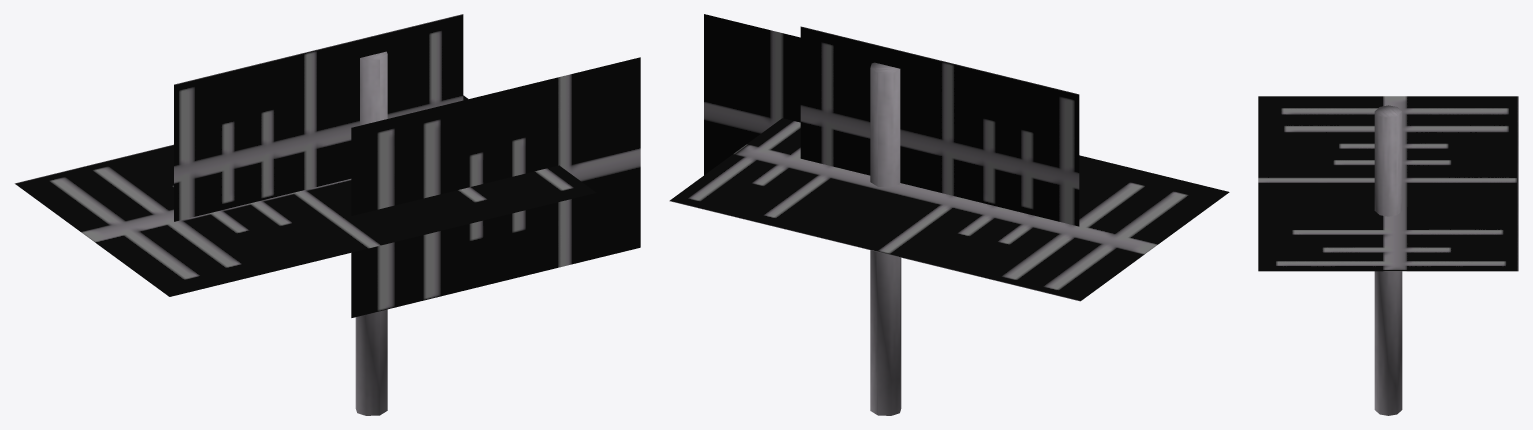
Rendered from Aerial.fbx.
The picture shows the model from 3 angles, left to right: view 1: azimuth 30°, elevation 25°; view 2: azimuth 150°, elevation 25°; view 3: azimuth 270°, elevation 25°; orthographic projection. The views are drawn at different scales.
Parts seen in each view (by area): view 1: Plane.035; view 2: Plane.035; view 3: Plane.035.
Part boxes in pixels (x1,y1,x2,y2): Plane.035: [14, 14, 640, 415]; Plane.035: [669, 14, 1229, 415]; Plane.035: [1258, 96, 1518, 415].
Bounding box in the file's own units: 84.43 × 59.48 × 44.63.
